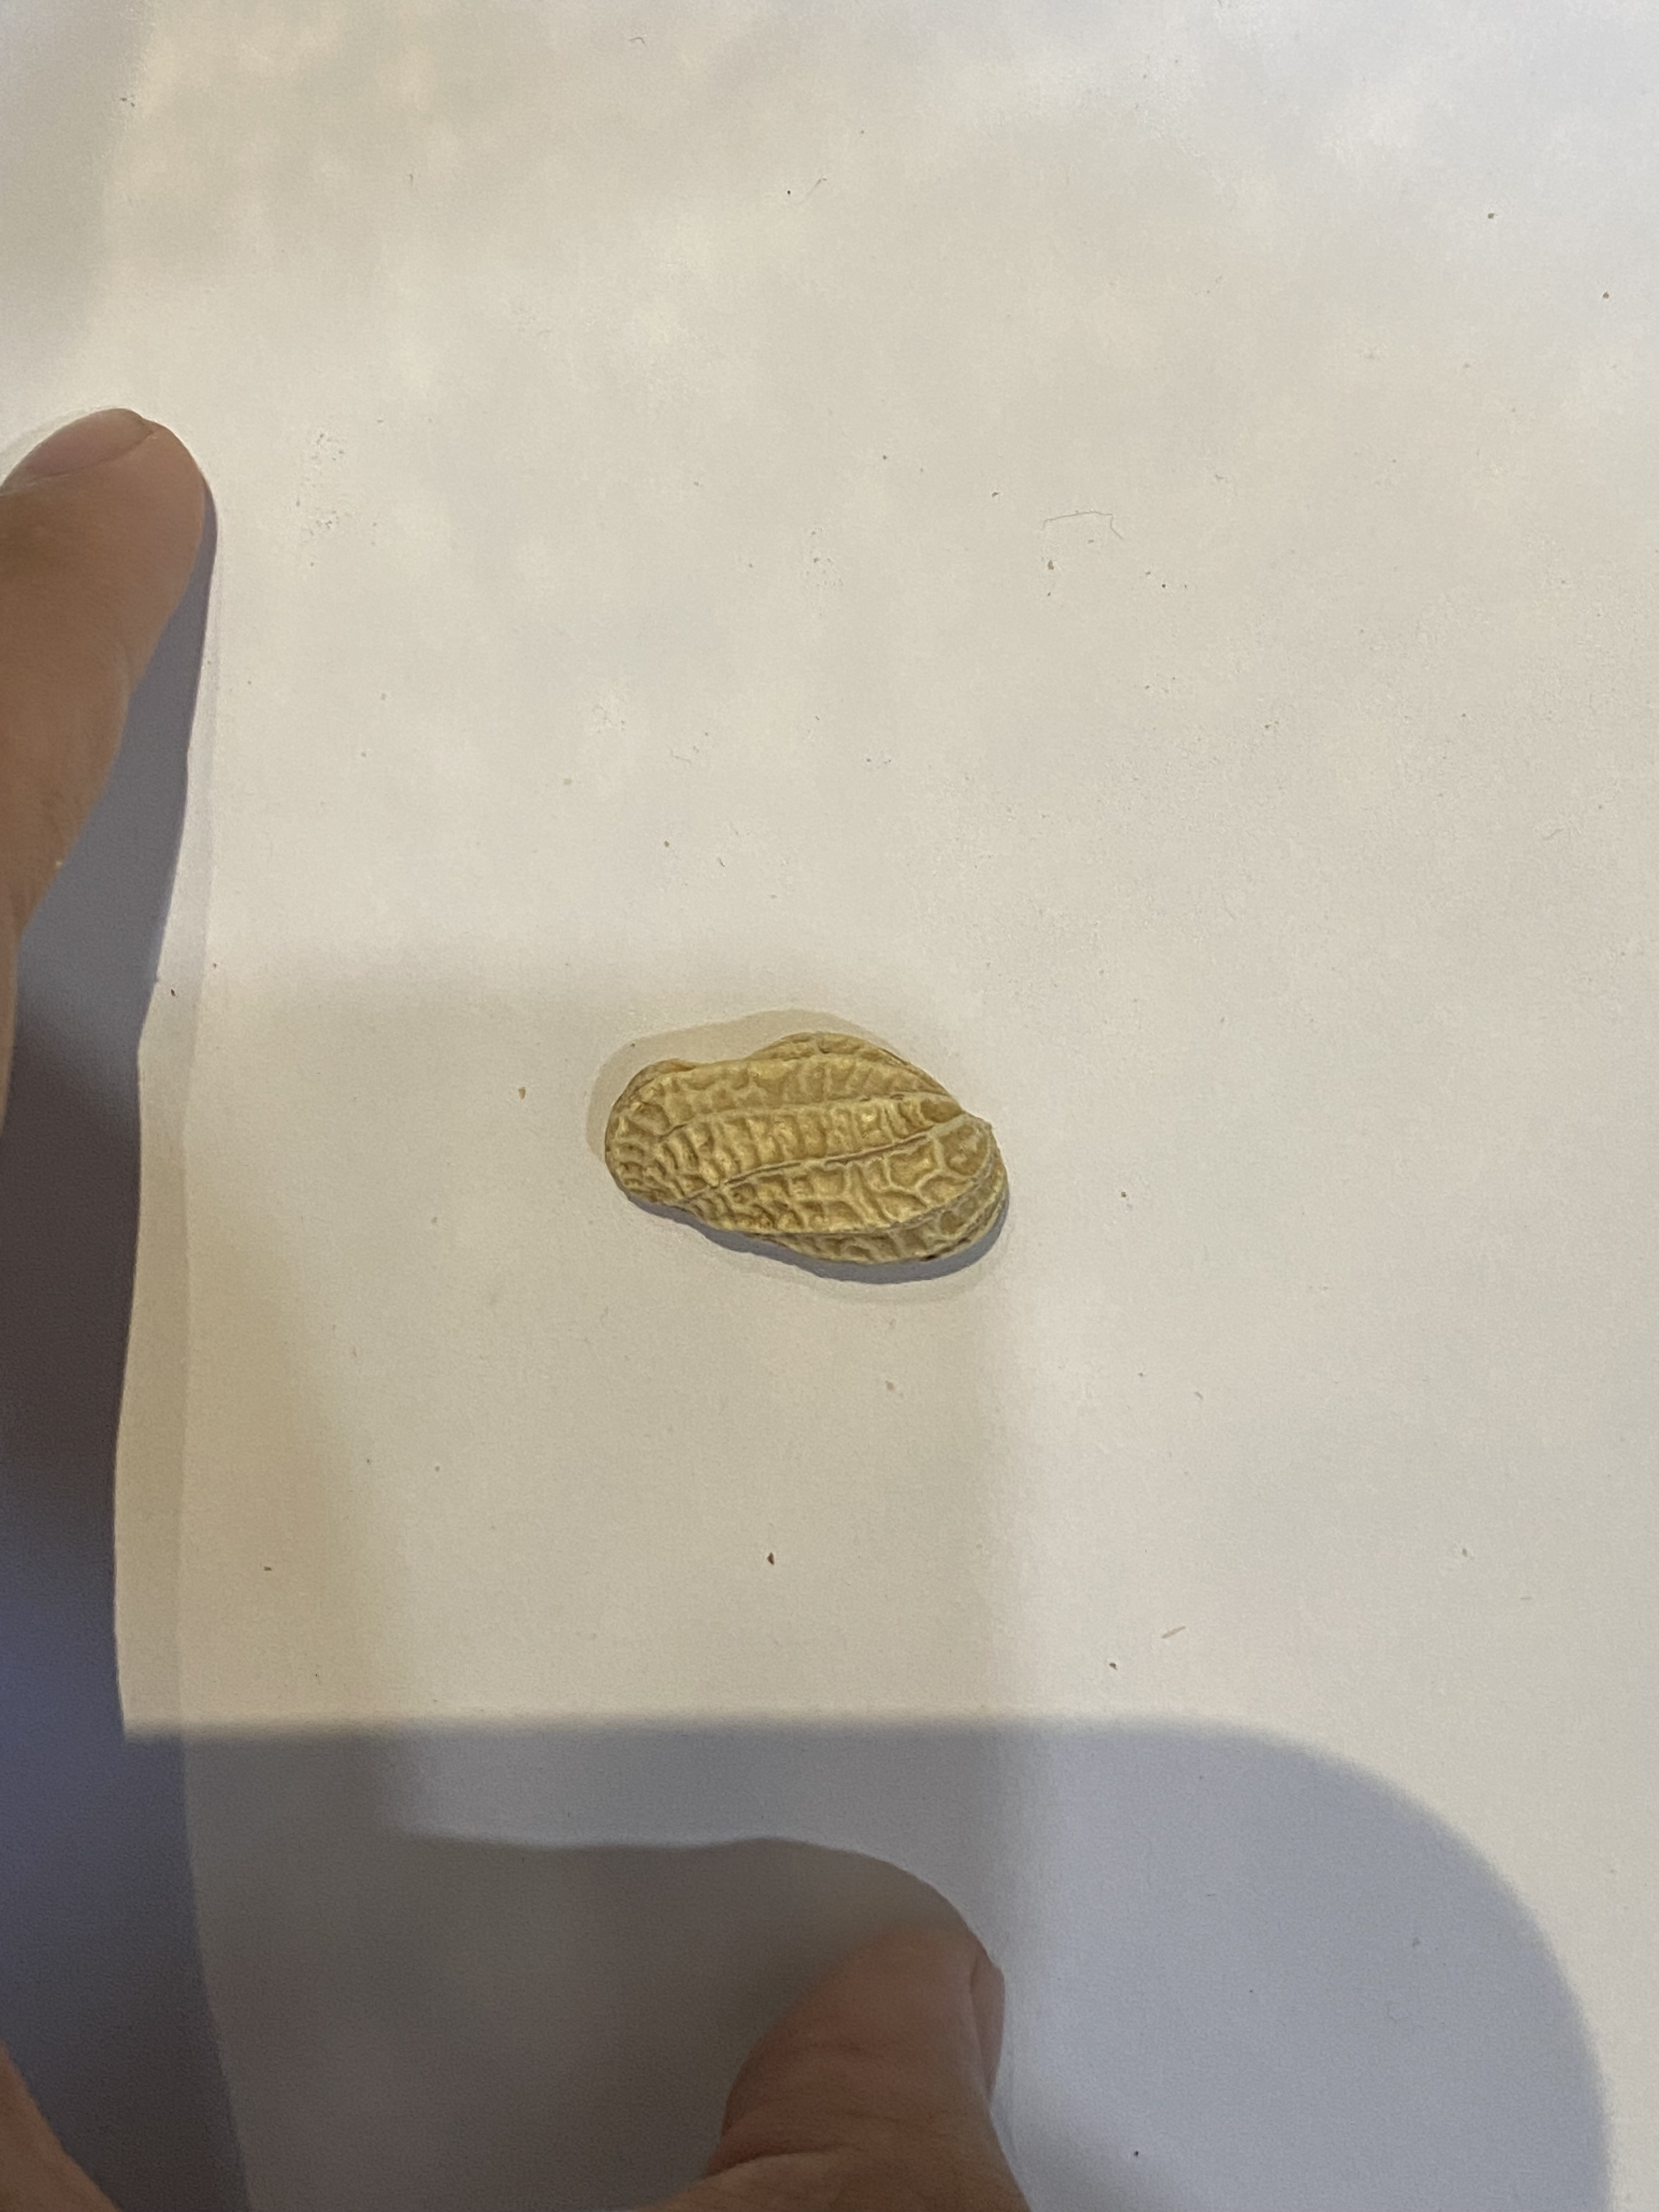kacang1: (580, 1026, 1019, 1284)
